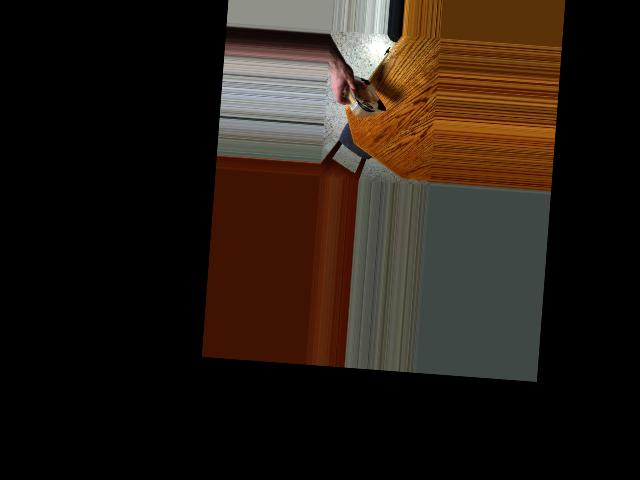cheese: (343, 62, 386, 123)
